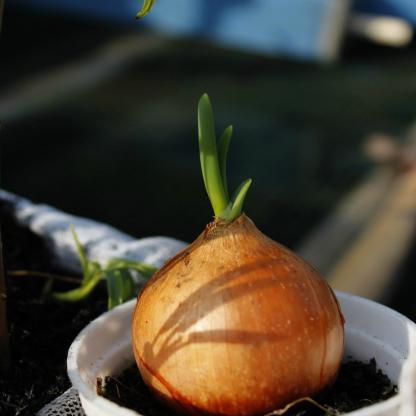onion: (125, 138, 366, 415)
